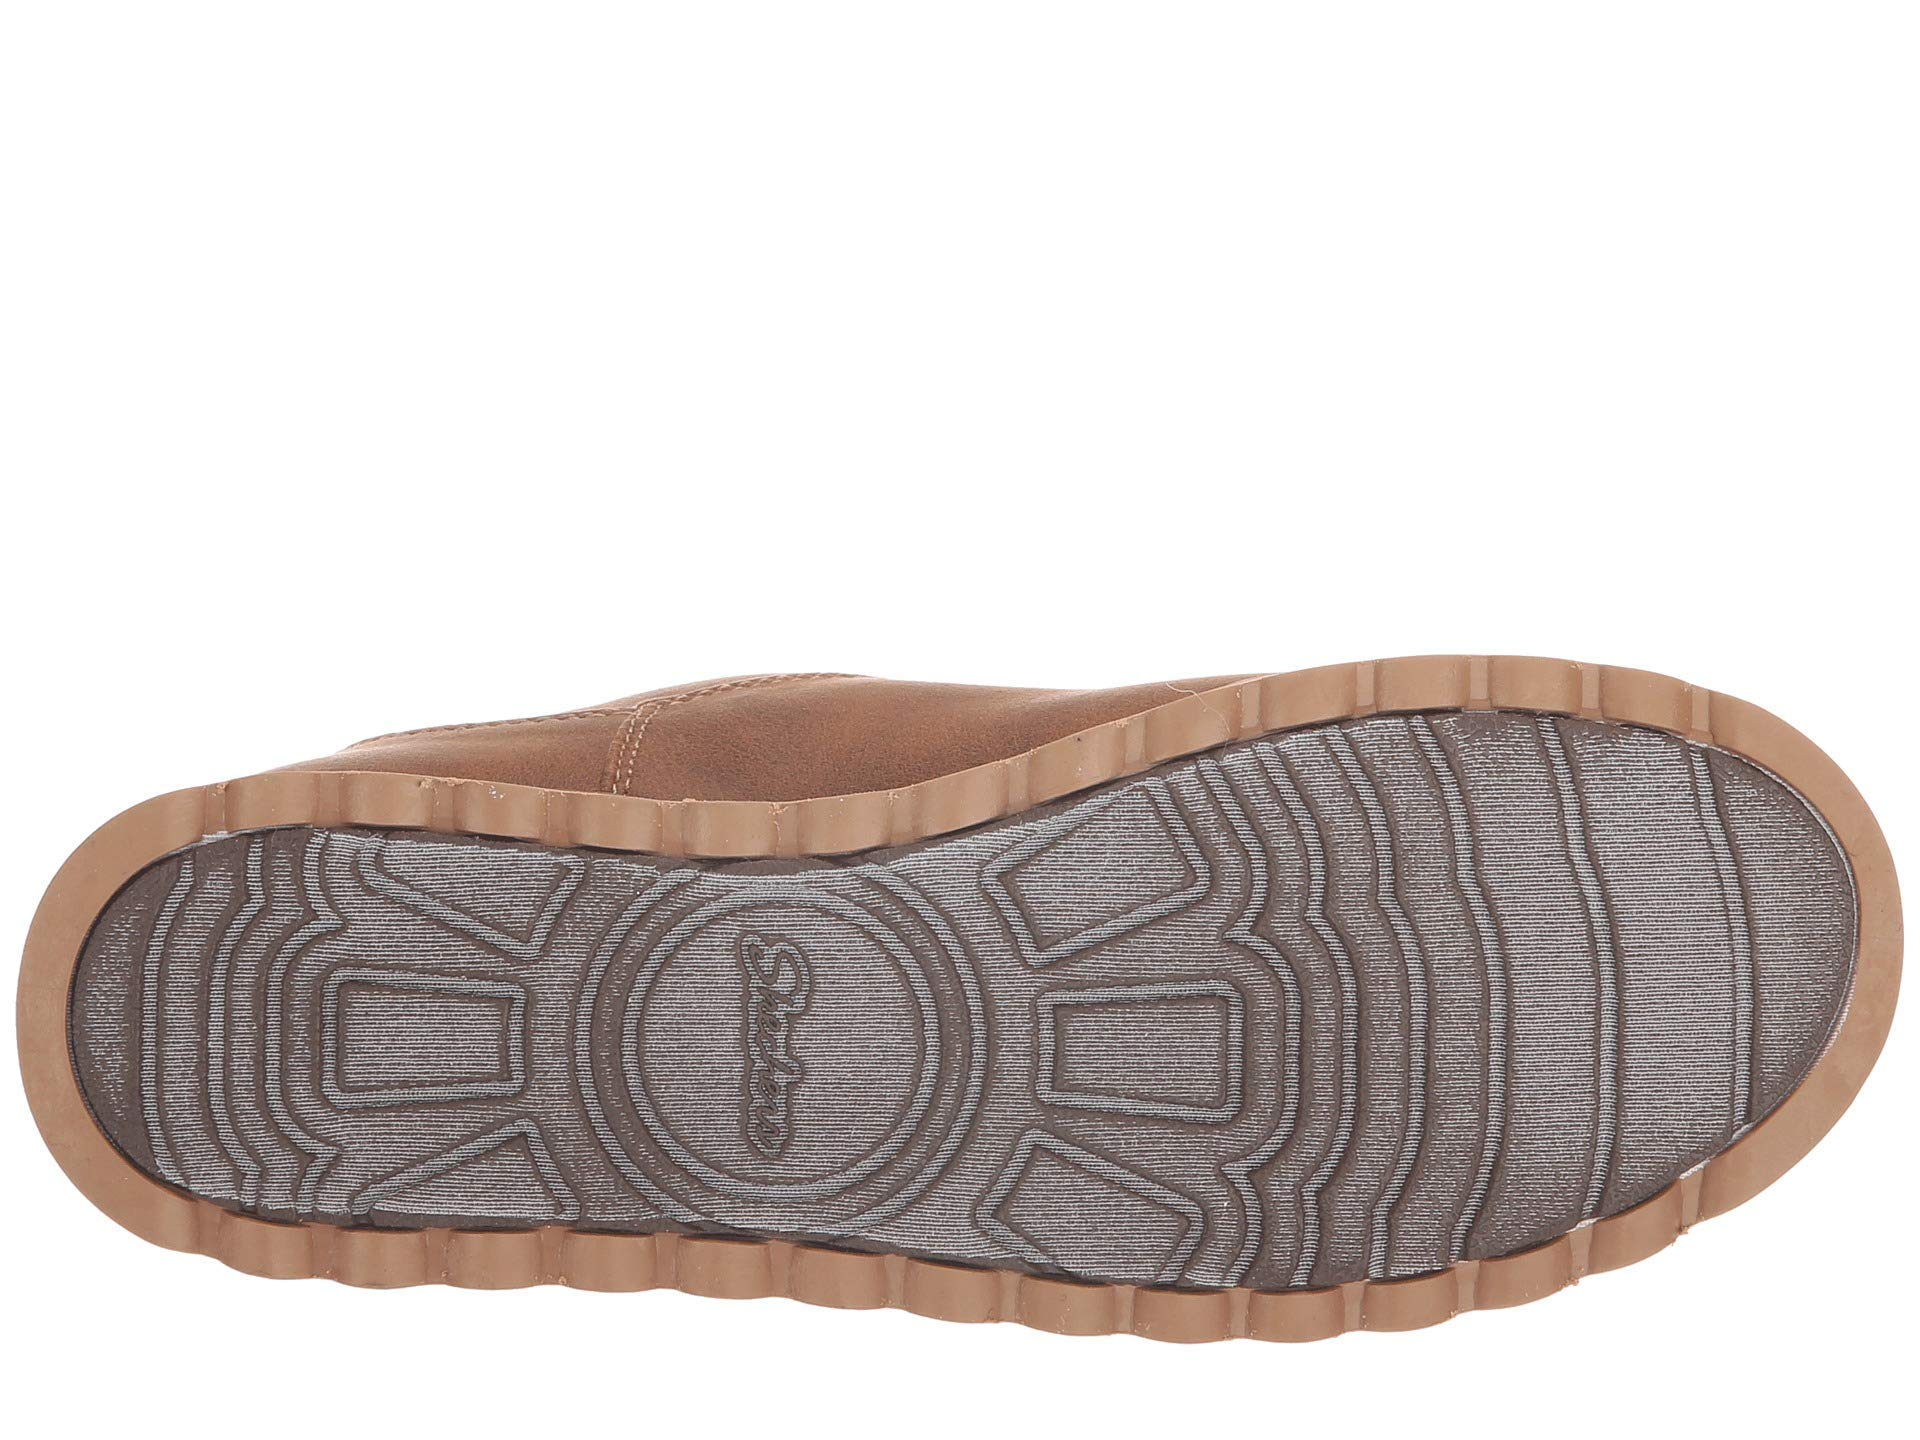circle: (581, 847, 984, 1237)
line: (1241, 765, 1619, 1215), (1680, 814, 1795, 1069)
quad: (992, 755, 1209, 989), (1033, 973, 1271, 1141), (307, 948, 543, 1116), (984, 1137, 1217, 1292), (975, 1271, 1054, 1342), (517, 1221, 590, 1293), (639, 1231, 701, 1305), (287, 1224, 354, 1286), (413, 1221, 464, 1299), (180, 1198, 239, 1266), (863, 787, 939, 839), (1556, 656, 1613, 726), (872, 1251, 927, 1324), (1215, 684, 1288, 738), (754, 1243, 813, 1307), (178, 787, 243, 844), (420, 771, 472, 844), (1675, 681, 1728, 750), (1435, 1252, 1495, 1311), (1668, 1159, 1713, 1237), (1553, 1213, 1606, 1278), (532, 785, 579, 858), (307, 768, 352, 838), (1219, 1286, 1268, 1348), (1330, 1280, 1382, 1339), (1451, 656, 1507, 709), (652, 808, 708, 858), (1104, 1283, 1147, 1343), (1341, 663, 1392, 709)
text: (581, 847, 984, 1237)
